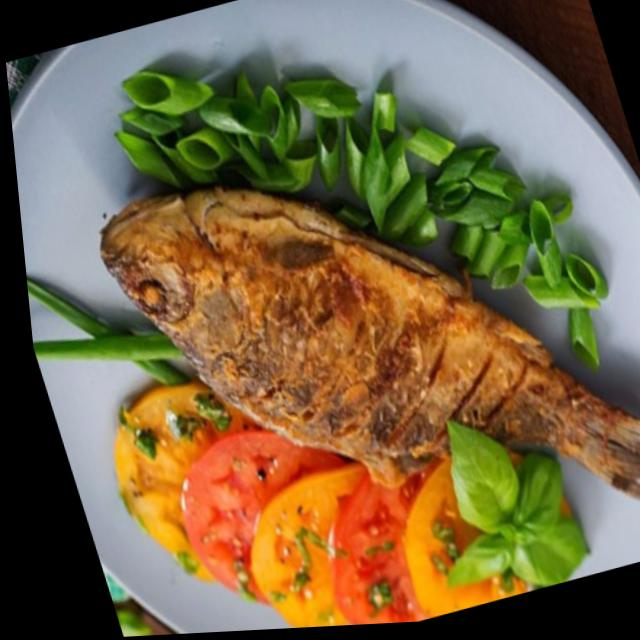FISH FRY: (96, 192, 640, 493)
